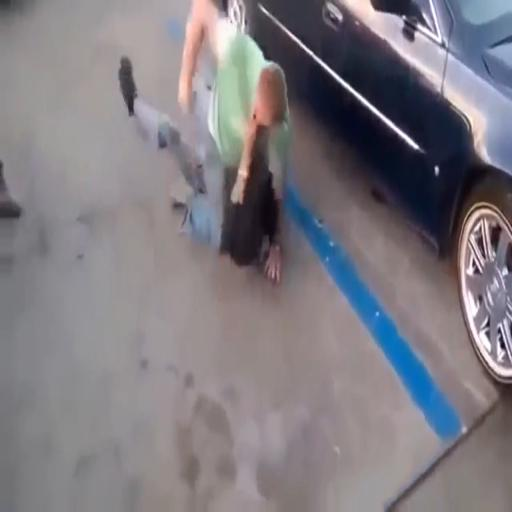violencia: (109, 0, 302, 293)
